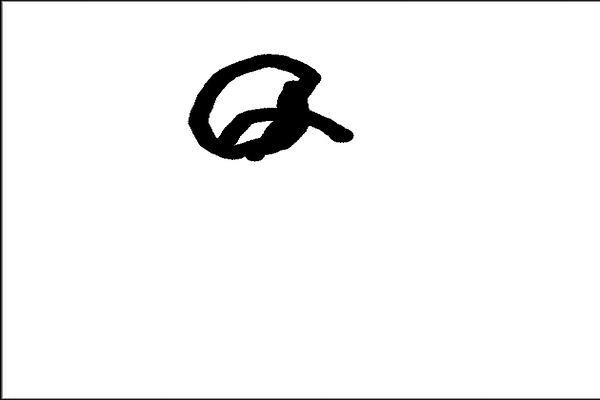Q: (175, 40, 356, 165)
